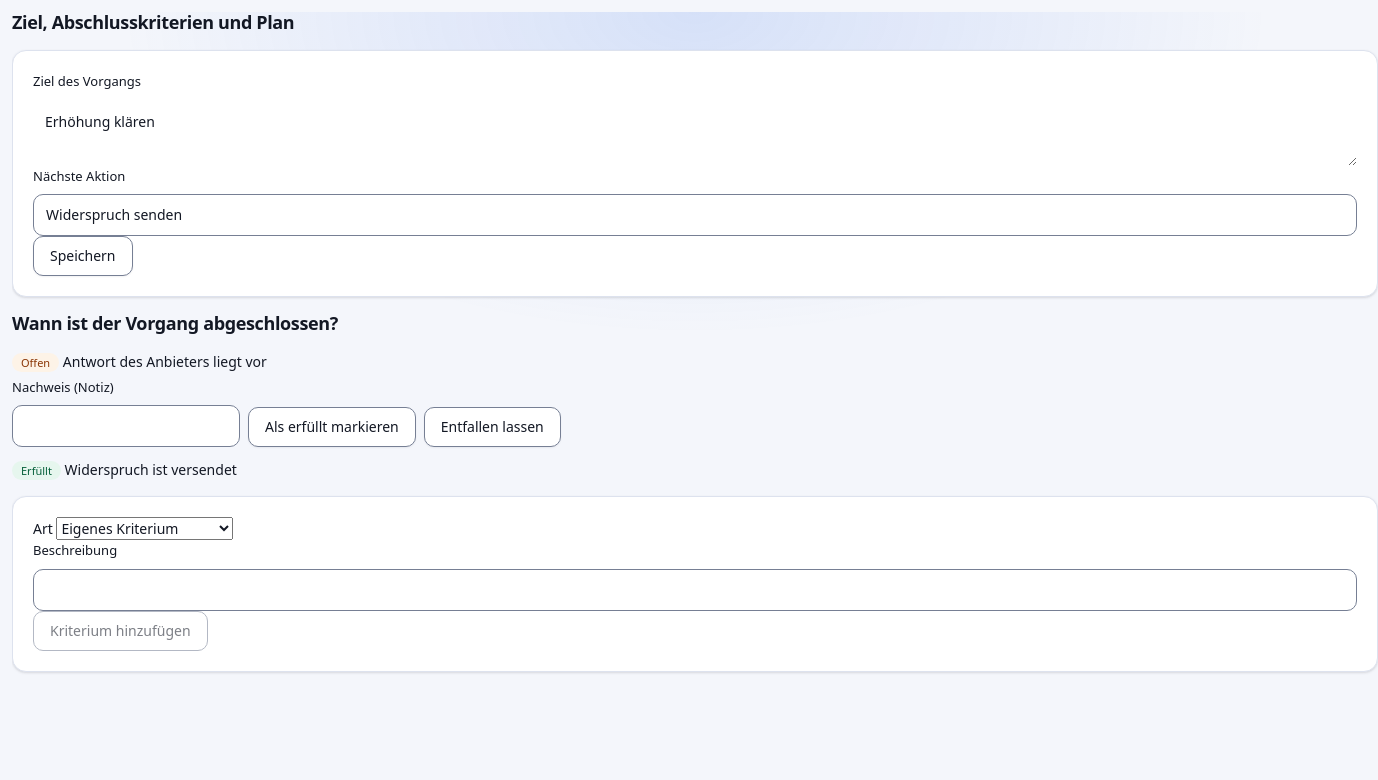
Scenario: CaseWorkspace › marking a criterion met needs the evidence
Check: the text box showing "Erhöhung klären" is shown, box left=33, top=99, right=1357, bottom=166
Click the button "Als erfüllt markieren" at (332, 427), box left=248, top=407, right=416, bottom=447
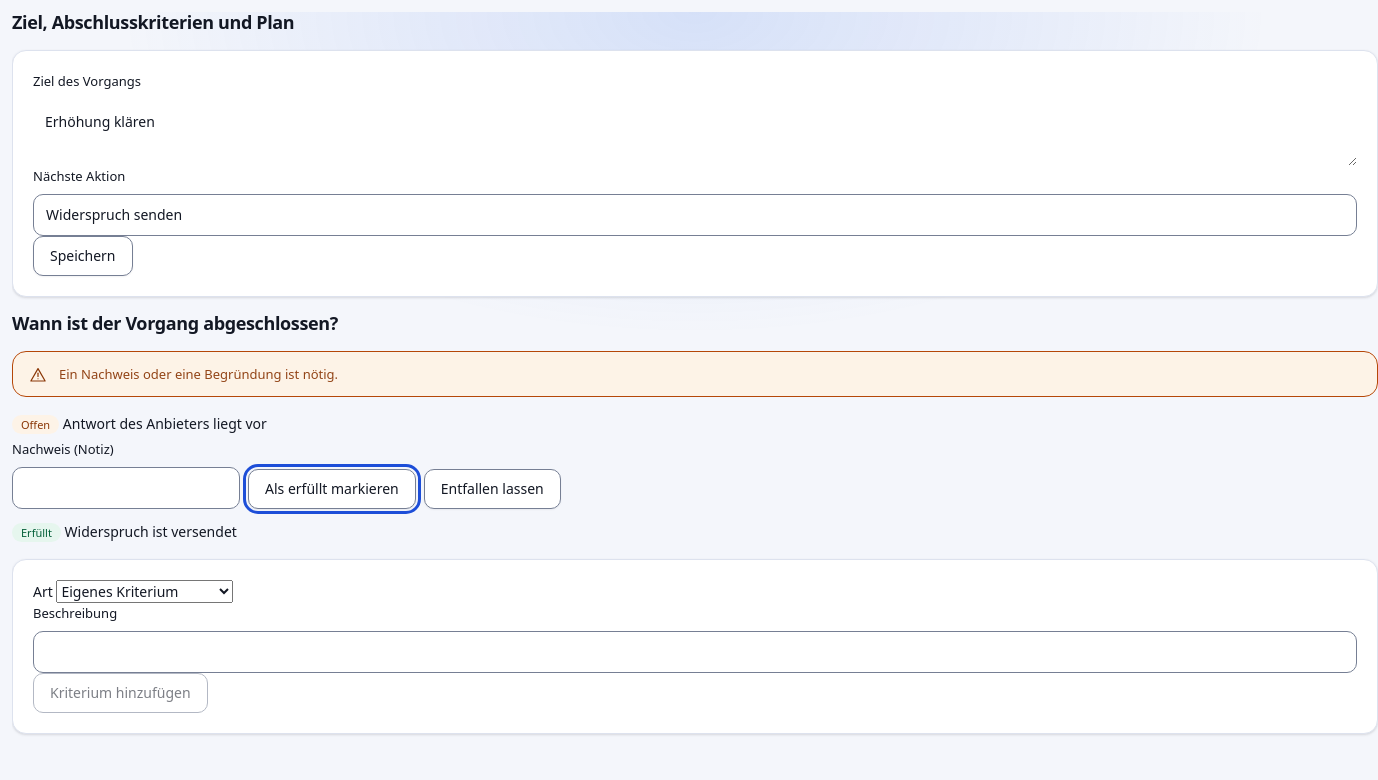
Check: the text "Ein Nachweis oder eine Begründung ist nötig." is shown, box left=59, top=365, right=338, bottom=383
